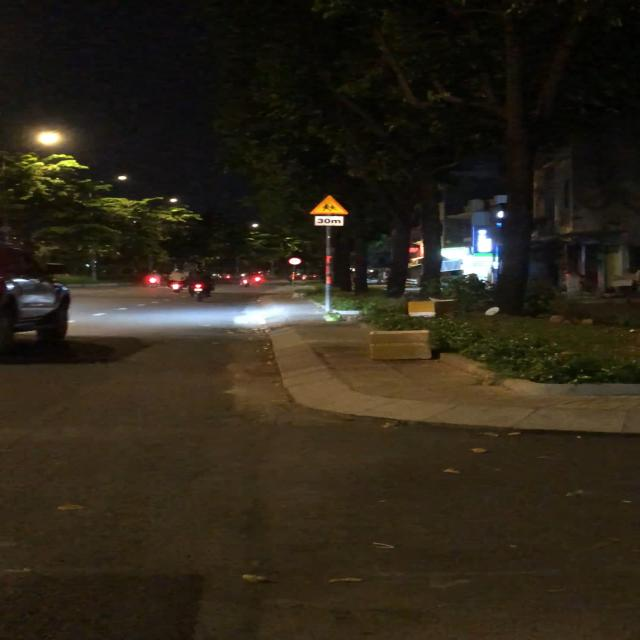Bien bao tre em: (308, 194, 355, 216)
